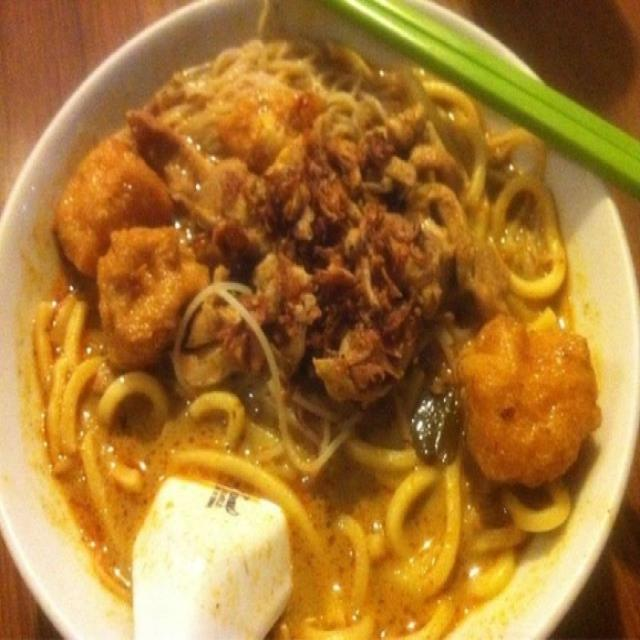面条主食: (6, 31, 609, 631)
